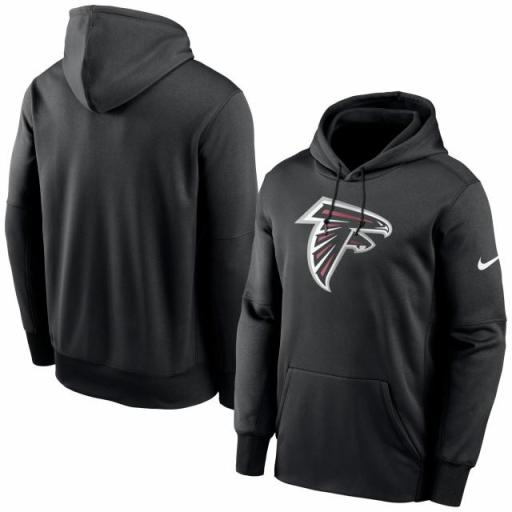Nike: (475, 256, 500, 274)
